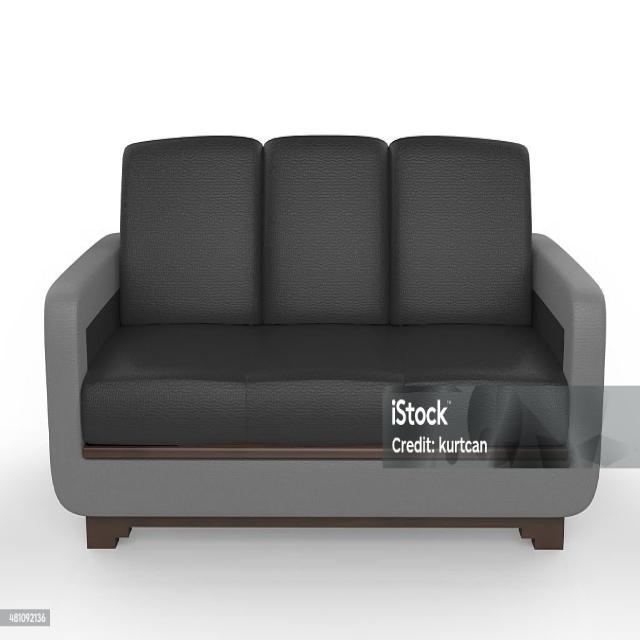back_cushion: (119, 136, 532, 325)
base: (56, 445, 592, 516)
left_arm: (532, 234, 606, 456)
legs: (86, 516, 482, 548), (485, 517, 564, 549)
right_arm: (44, 236, 118, 512)
seat_cushion: (81, 326, 568, 445)
stallion-sofa1: (45, 136, 605, 548)
